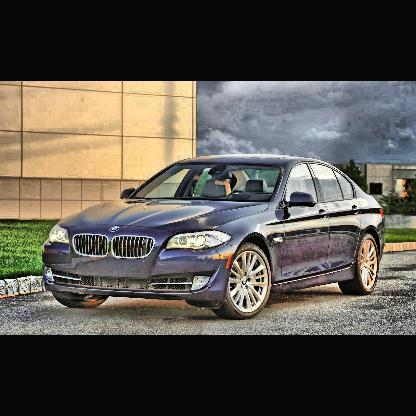BMW ActiveHybrid 5 Sedan 2012: (34, 152, 396, 321)
